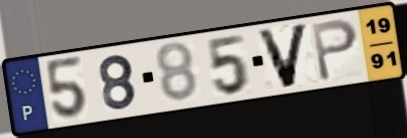5: (203, 31, 254, 98), (42, 54, 89, 124)
8: (152, 40, 204, 106), (96, 52, 139, 112)
P: (309, 16, 361, 84)
V: (254, 21, 312, 91)
